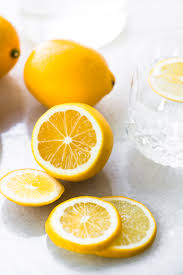lemon: (16, 34, 132, 114)
